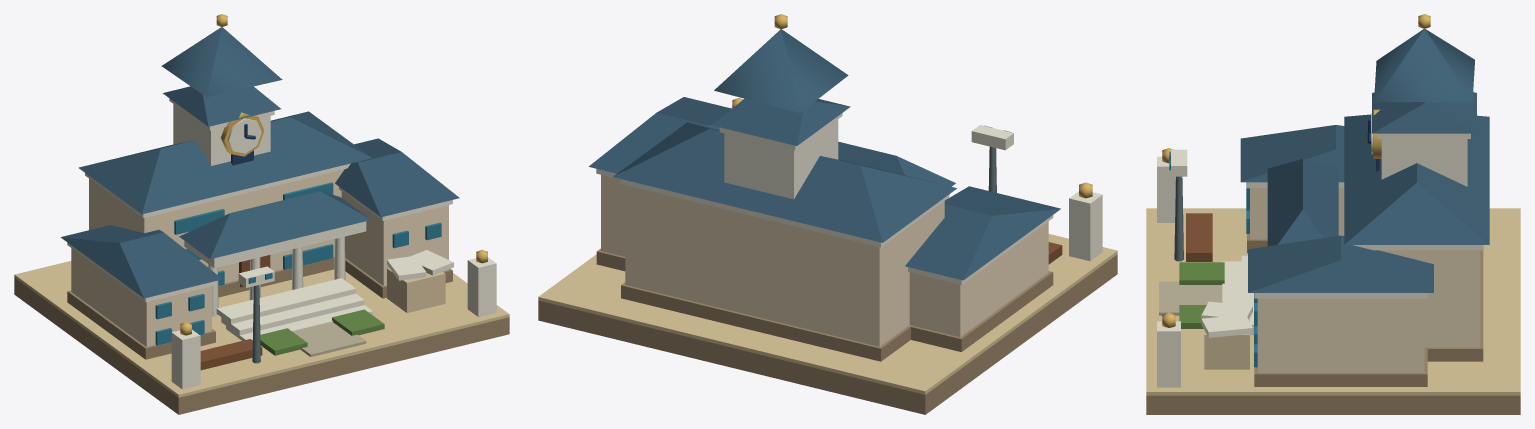
File: university-lv3.glb
3 renders of one model, left to right at view 1: azimuth 30°, elevation 25°; view 2: azimuth 150°, elevation 25°; view 3: azimuth 270°, elevation 25°, orthographic. The views are drawn at different scales.
Parts seen in each view (by area): view 1: foundation_sand, lecture_hall_roof_roof, foundation_stoneDark, portico_pediment_roof, library_wing_roof_roof, lecture_hall_cream, library_wing_cream, science_wing_roof_roof, entrance_steps_white, science_wing_cream, tower_cap_roof, campus_gate_white (+22 smaller); view 2: lecture_hall_cream, lecture_hall_roof_roof, foundation_sand, foundation_stoneDark, library_wing_roof_roof, library_wing_cream, tower_cap_roof, clock_tower_white, lecture_hall_stoneDark, clock_tower_roof_roof, science_wing_roof_roof, library_wing_stoneDark (+6 smaller); view 3: foundation_sand, lecture_hall_roof_roof, science_wing_cream, science_wing_roof_roof, foundation_stoneDark, tower_cap_roof, portico_pediment_roof, lecture_hall_cream, library_wing_roof_roof, clock_tower_white, clock_tower_roof_roof, campus_gate_white (+13 smaller).
Boxes of the visible parts, <box> form: foundation_sand: <box>14,261,509,397</box>; lecture_hall_roof_roof: <box>78,111,372,214</box>; foundation_stoneDark: <box>14,278,509,414</box>; portico_pediment_roof: <box>179,191,370,259</box>; library_wing_roof_roof: <box>60,225,222,298</box>; lecture_hall_cream: <box>89,169,344,283</box>; library_wing_cream: <box>71,248,211,346</box>; science_wing_roof_roof: <box>335,138,459,217</box>; entrance_steps_white: <box>216,278,373,340</box>; science_wing_cream: <box>341,191,448,285</box>; tower_cap_roof: <box>161,27,282,97</box>; campus_gate_white: <box>171,257,496,389</box>; lecture_hall_cream: <box>625,185,944,346</box>; lecture_hall_roof_roof: <box>613,122,956,242</box>; foundation_sand: <box>538,234,1117,394</box>; foundation_stoneDark: <box>538,254,1117,414</box>; library_wing_roof_roof: <box>905,186,1060,280</box>; library_wing_cream: <box>909,221,1048,337</box>; tower_cap_roof: <box>714,29,848,112</box>; clock_tower_white: <box>719,113,842,199</box>; lecture_hall_stoneDark: <box>621,282,910,361</box>; clock_tower_roof_roof: <box>712,98,850,145</box>; science_wing_roof_roof: <box>588,97,731,173</box>; library_wing_stoneDark: <box>908,271,1053,351</box>; foundation_sand: <box>1146,208,1520,395</box>; lecture_hall_roof_roof: <box>1344,114,1489,244</box>; science_wing_cream: <box>1257,298,1424,372</box>; science_wing_roof_roof: <box>1248,235,1433,292</box>; foundation_stoneDark: <box>1146,395,1520,414</box>; tower_cap_roof: <box>1374,29,1474,102</box>; portico_pediment_roof: <box>1267,159,1338,246</box>; lecture_hall_cream: <box>1379,250,1480,347</box>; library_wing_roof_roof: <box>1240,125,1344,182</box>; clock_tower_white: <box>1378,133,1470,186</box>; clock_tower_roof_roof: <box>1372,92,1476,133</box>; campus_gate_white: <box>1157,156,1180,387</box>.
Size of the model in its own units: 1 by 0.7837 by 0.8605.
